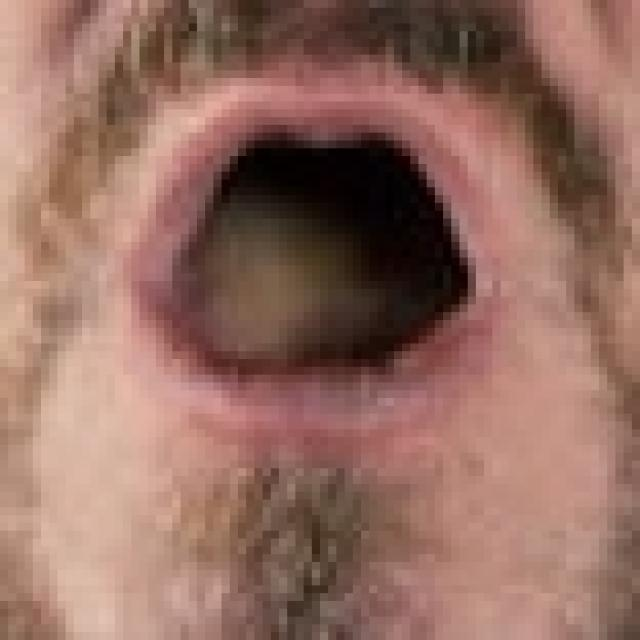open-mouth: (114, 70, 500, 414)
